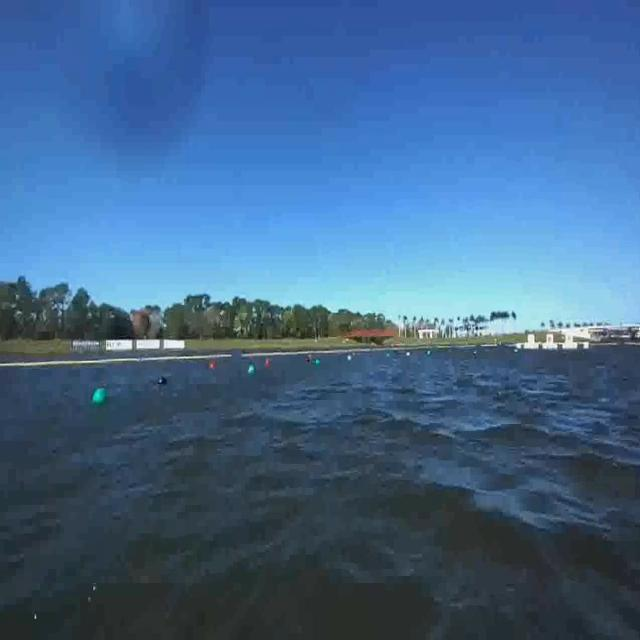green-buoy: (92, 385, 106, 403), (248, 364, 256, 374), (314, 359, 320, 366)
